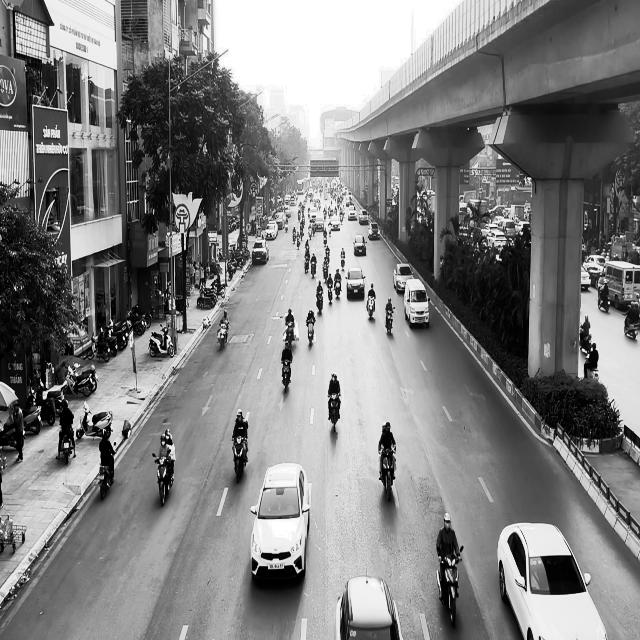car: (497, 522, 608, 640), (250, 462, 310, 581), (334, 573, 403, 639), (346, 266, 366, 298), (393, 263, 413, 293), (252, 240, 268, 264), (353, 235, 367, 255), (368, 222, 380, 240)
motorbike: (436, 546, 463, 626), (152, 452, 175, 506), (378, 445, 396, 501), (148, 322, 174, 357), (98, 450, 116, 500), (232, 436, 248, 482), (58, 424, 75, 465), (328, 392, 340, 432), (281, 358, 292, 392), (217, 321, 229, 350), (597, 286, 610, 312), (284, 321, 294, 349), (306, 318, 315, 346), (385, 307, 394, 335), (366, 294, 375, 319), (316, 290, 323, 314)
